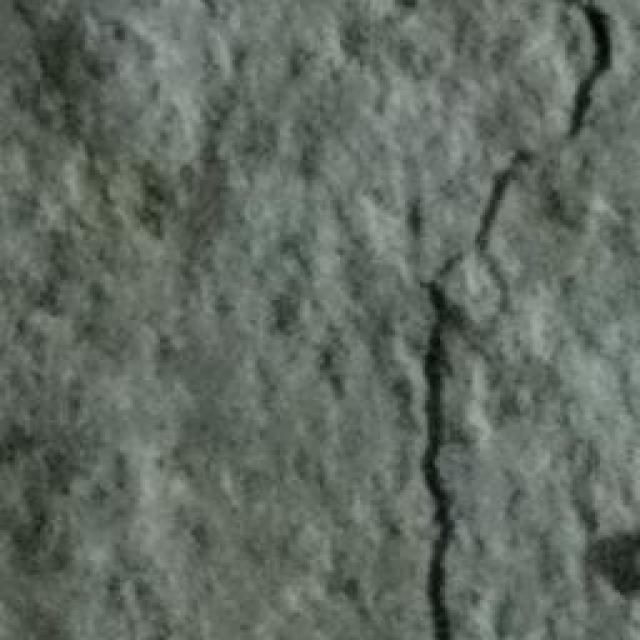Annular: (428, 240, 512, 342)
Diagonal: (477, 0, 614, 238), (421, 344, 459, 640)
